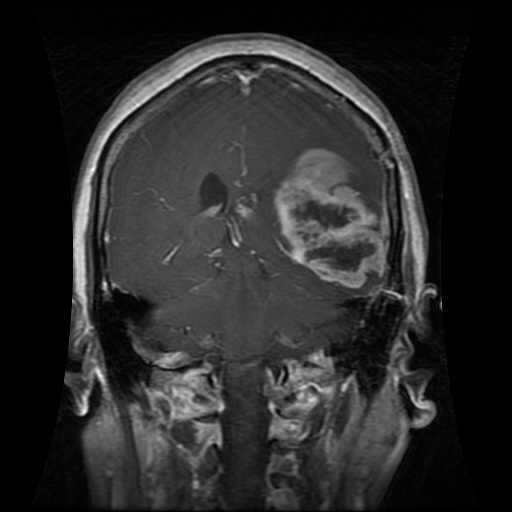glioma: (271, 145, 392, 295)
